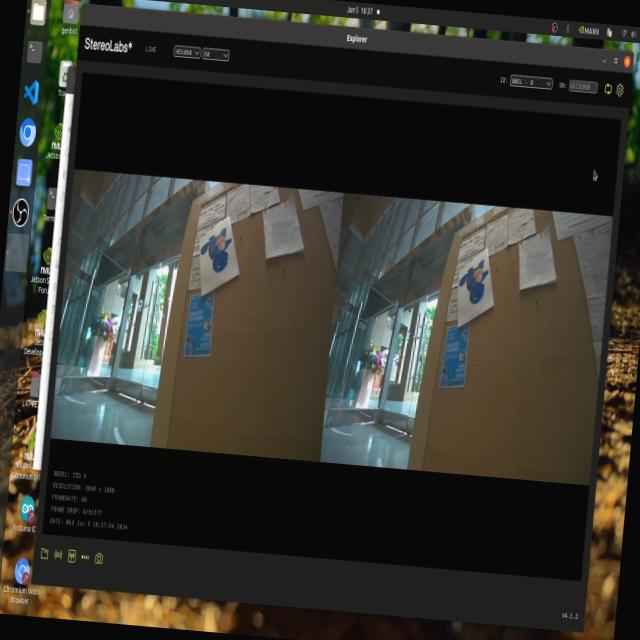blue: (458, 257, 496, 314), (201, 230, 237, 276)
